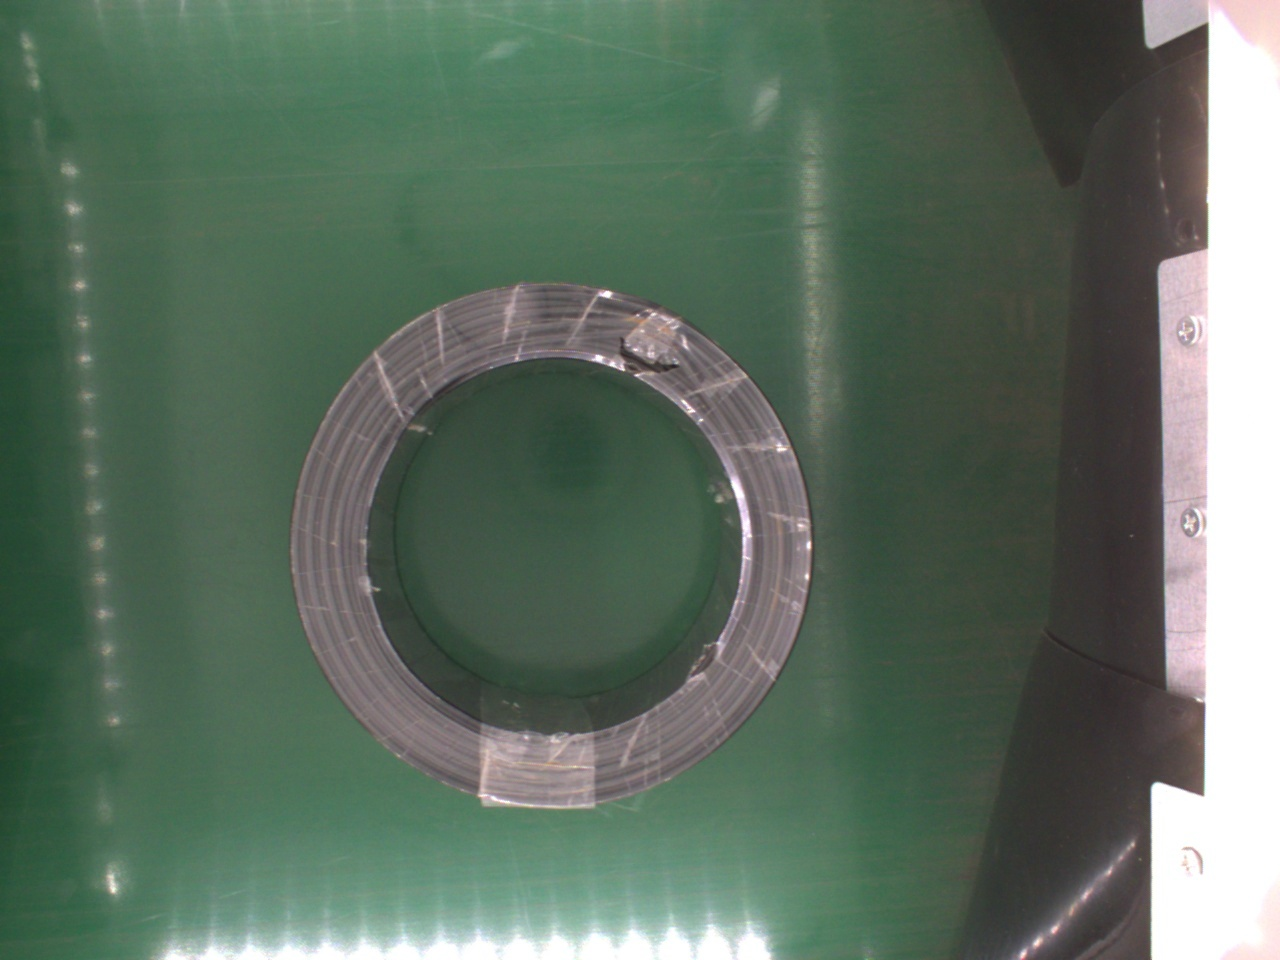black: (286, 283, 809, 812)
